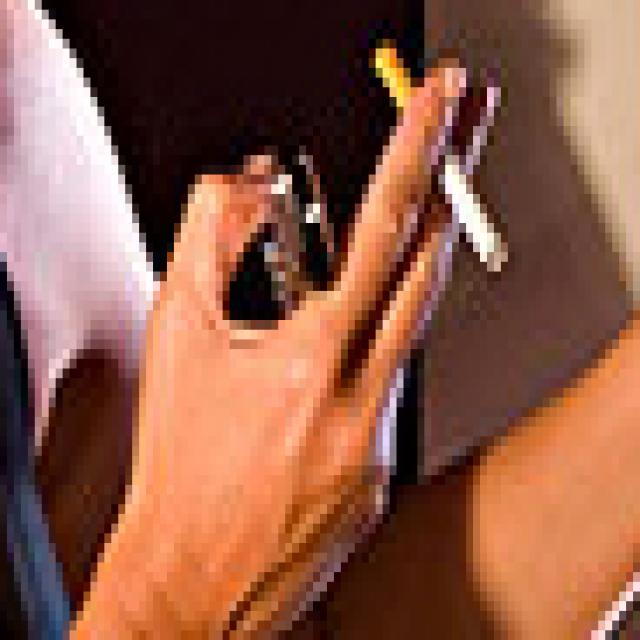smoking: (346, 42, 508, 270)
